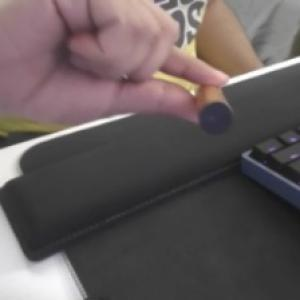Golden-E-Ciggirate: (190, 76, 235, 137)
